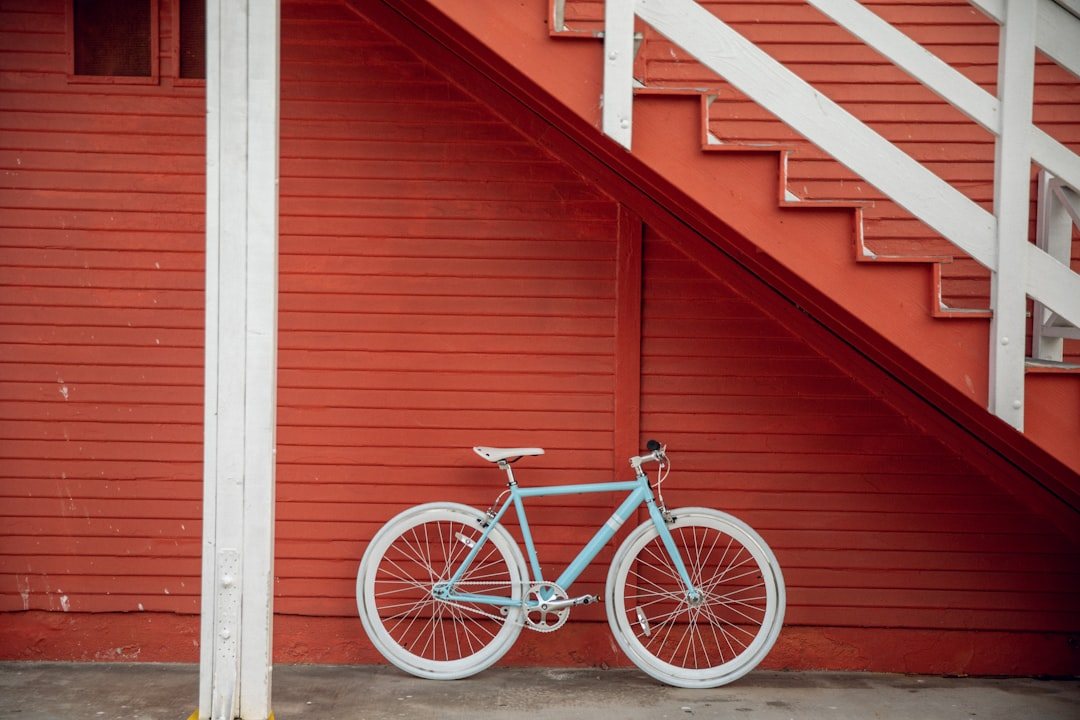bicycle: (355, 440, 786, 690)
